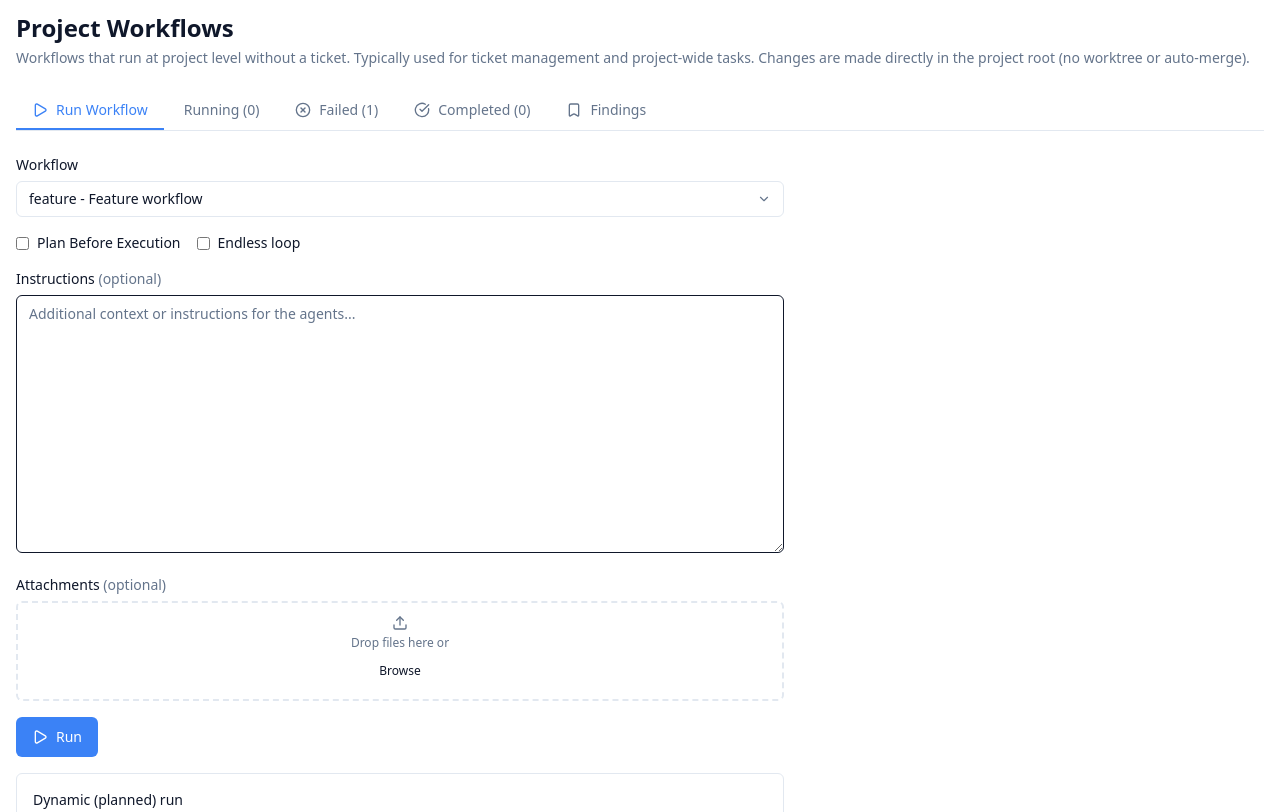
Test: ProjectWorkflowsPage — Failed tab and delete › Delete button in instance table › shows trash icon in failed tab table row
The image size is (1280, 812).
Click the button "Failed (1)".
click(337, 111)  # box [279, 92, 394, 130]
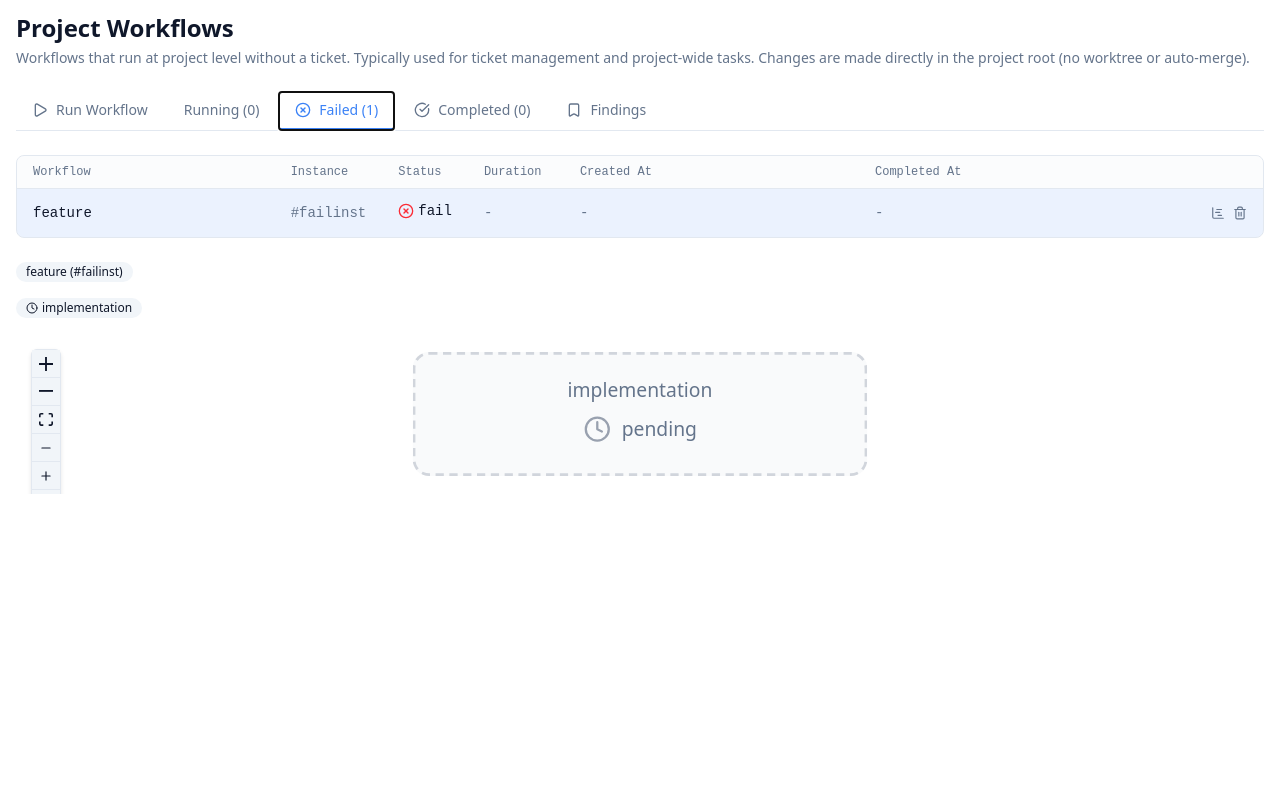
Expected: the button named "Delete instance" is shown, [1233, 206, 1247, 220]
